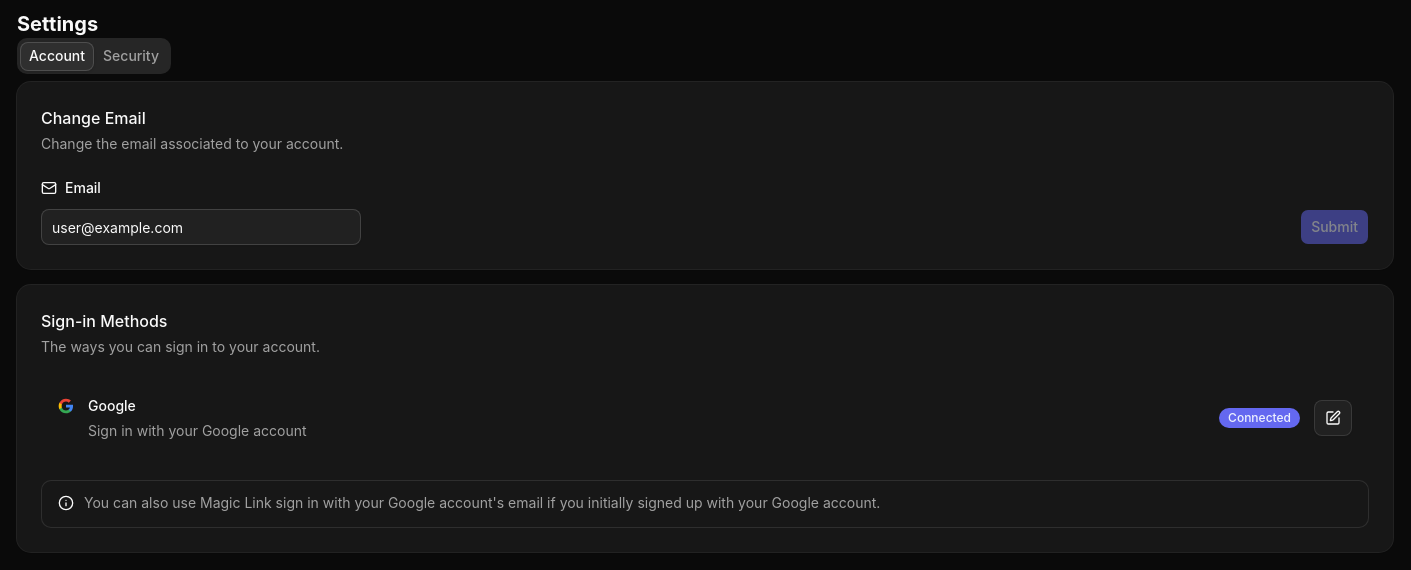
Test: Settings Page › Change Email section › enables submit button when email is changed
Replace the text in the field labelled "Email" with "new@example.com": {"x": 201, "y": 227} [41,209,361,245]
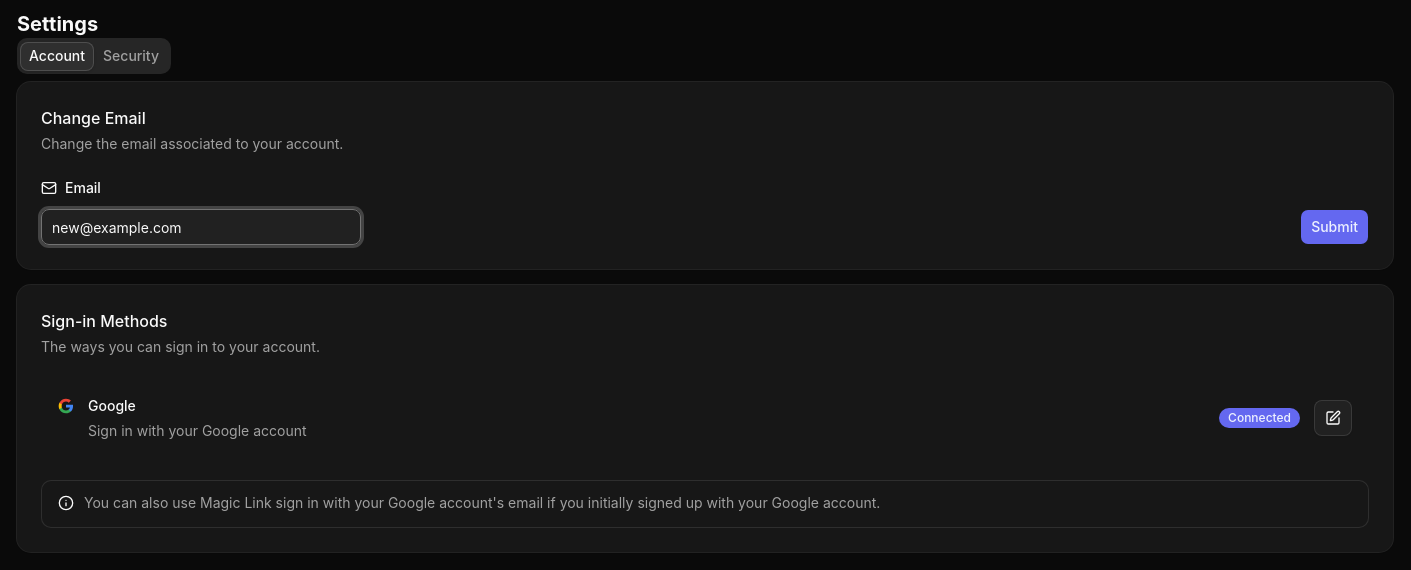
Now the button "Submit" is enabled, box [1300,209,1369,245]
